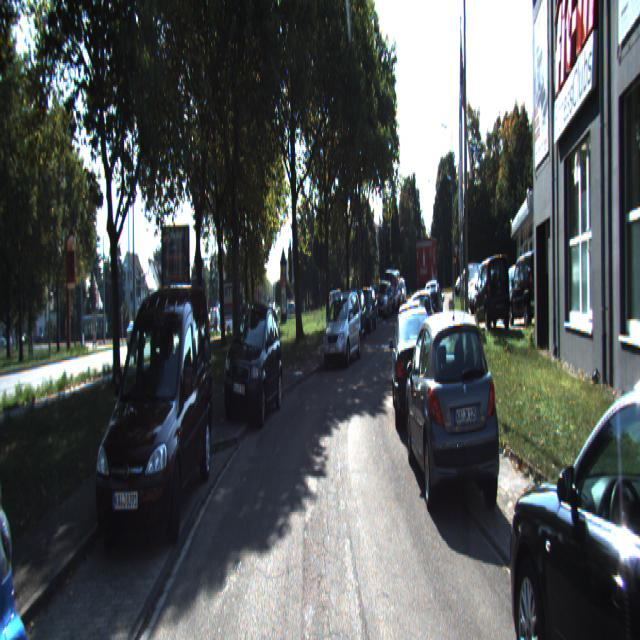Car: (499, 326, 639, 638), (86, 278, 218, 560), (403, 295, 505, 524), (222, 292, 284, 428), (391, 297, 438, 433), (507, 255, 552, 342), (322, 292, 362, 370), (473, 256, 512, 333), (416, 240, 439, 308)
